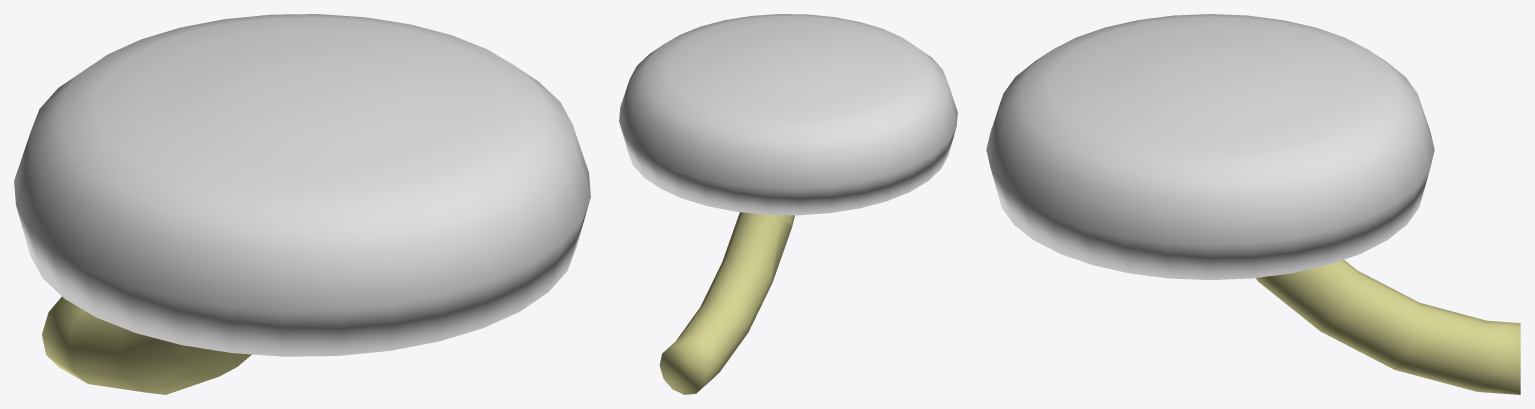
File: Mushroom002.fbx
The picture shows the model from 3 angles, left to right: view 1: azimuth 30°, elevation 25°; view 2: azimuth 150°, elevation 25°; view 3: azimuth 270°, elevation 25°; orthographic projection. The views are drawn at different scales.
Parts seen in each view (by area): view 1: Sphere, Stick; view 2: Sphere, Stick; view 3: Sphere, Stick.
Boxes of the visible parts, box(x1,y1,x2,y2) form: Sphere: box(14, 14, 590, 356); Stick: box(42, 296, 251, 394); Sphere: box(619, 14, 957, 215); Stick: box(659, 212, 794, 394); Sphere: box(986, 14, 1434, 280); Stick: box(1255, 260, 1520, 394).
Bounding box in the file's own units: 80.72 × 65.07 × 96.2.
